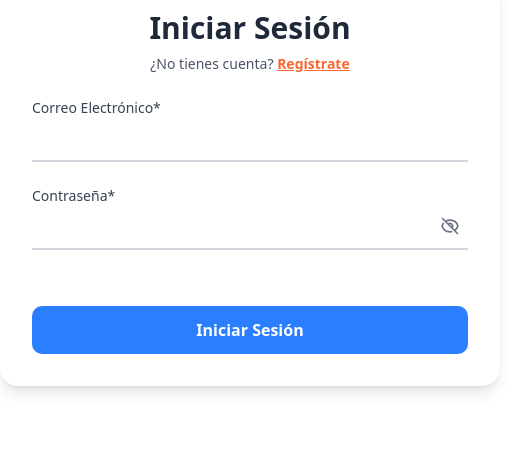
Test: LoginForm › Login fallido › debe mostrar error cuando las credenciales son incorrectas
Type "wrong@example.com" into the field at (250, 141), box [32, 120, 468, 162]
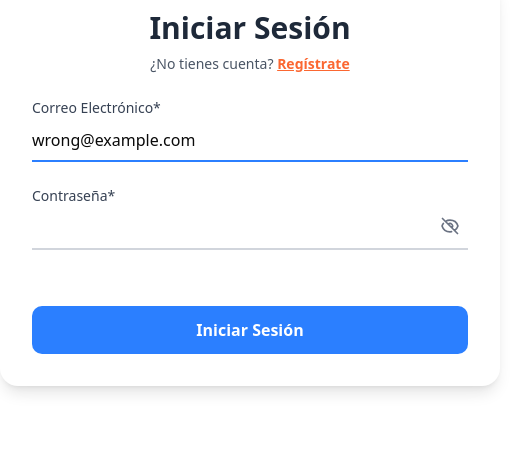
Type "WrongPass1" into the password field labelled "Contraseña*" at (250, 229), box [32, 208, 468, 250]
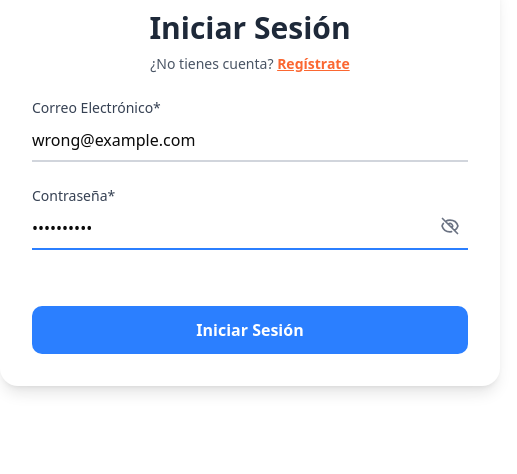
Click the button "Iniciar Sesión" at (250, 330), box [32, 306, 468, 354]
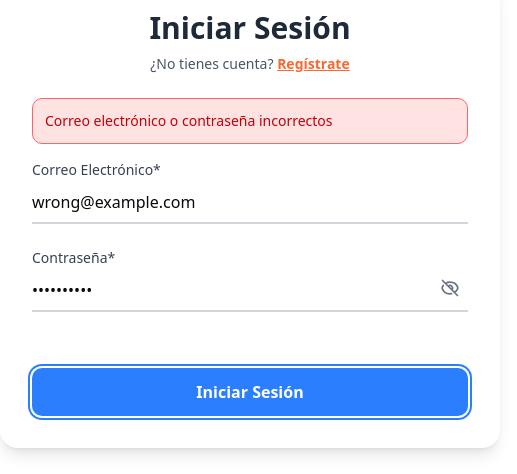
Expected: the text "Correo electrónico o contraseña incorrectos" is shown, [32, 98, 468, 144]
